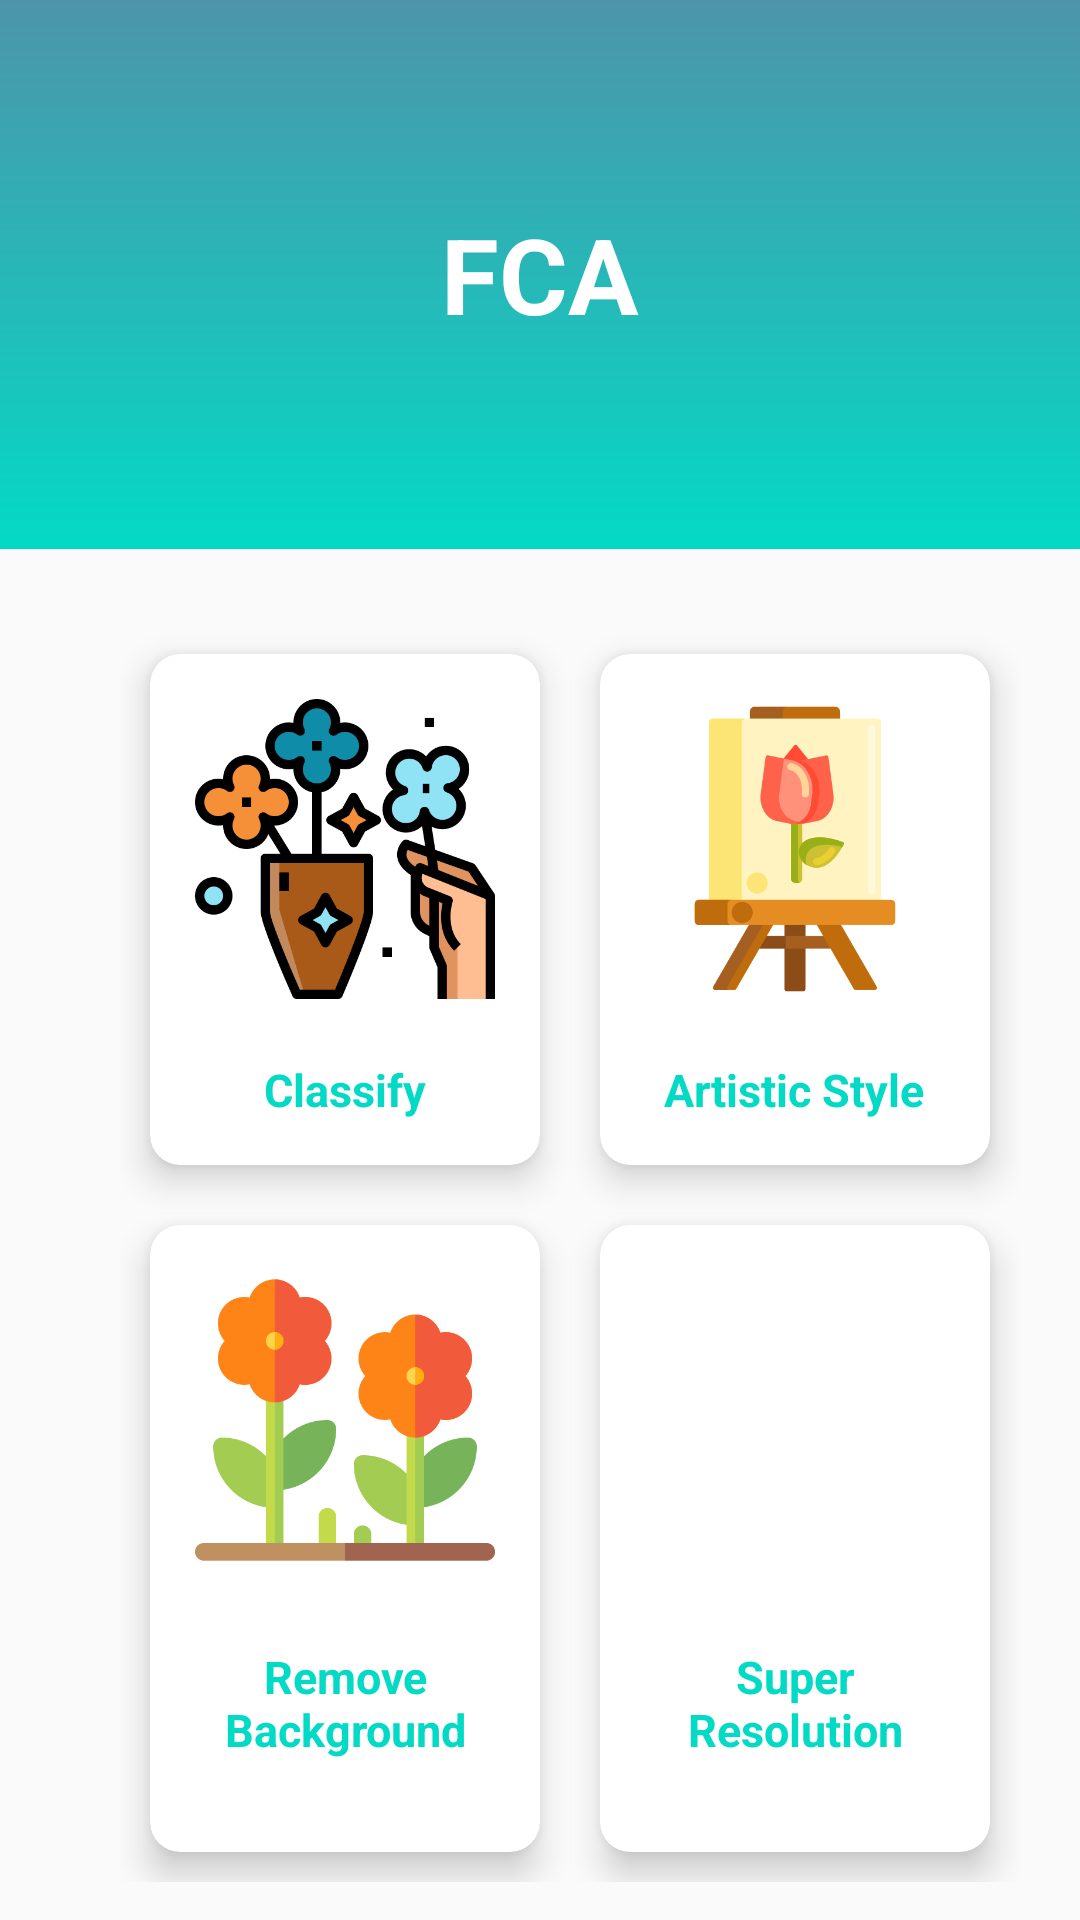

Named icons in this screenshot (1080 × 1920) and their centers, [x,y]:
flowers: [345,849]
